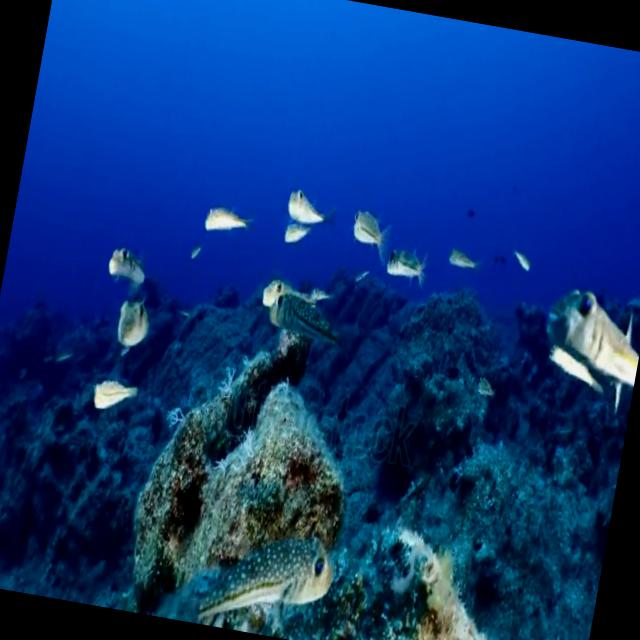Balon Baligi: (520, 255, 640, 411), (88, 218, 160, 300), (264, 286, 349, 354), (193, 190, 260, 251), (76, 366, 146, 424), (106, 290, 162, 358), (383, 234, 436, 296), (339, 194, 392, 252), (286, 176, 330, 225)
